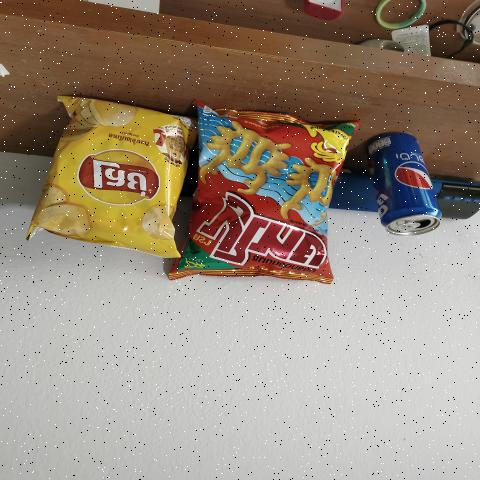pepsi_blue: (374, 138, 440, 240)
